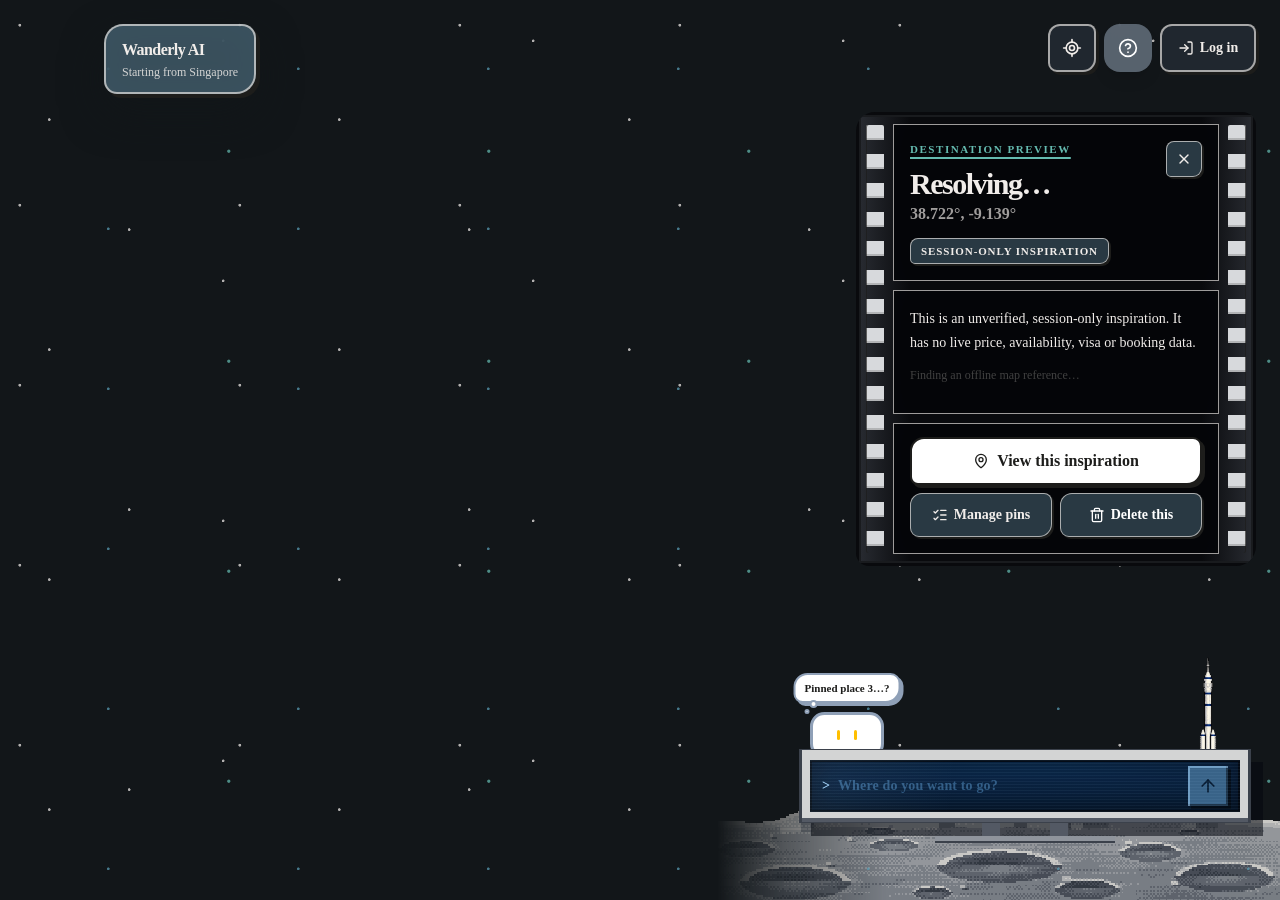
Scenario: ExploreMapPage private inspirations › keeps multiple pins and supports individual and batch deletion
Click the button "Manage pins" at (981, 515), box [910,493,1052,537]
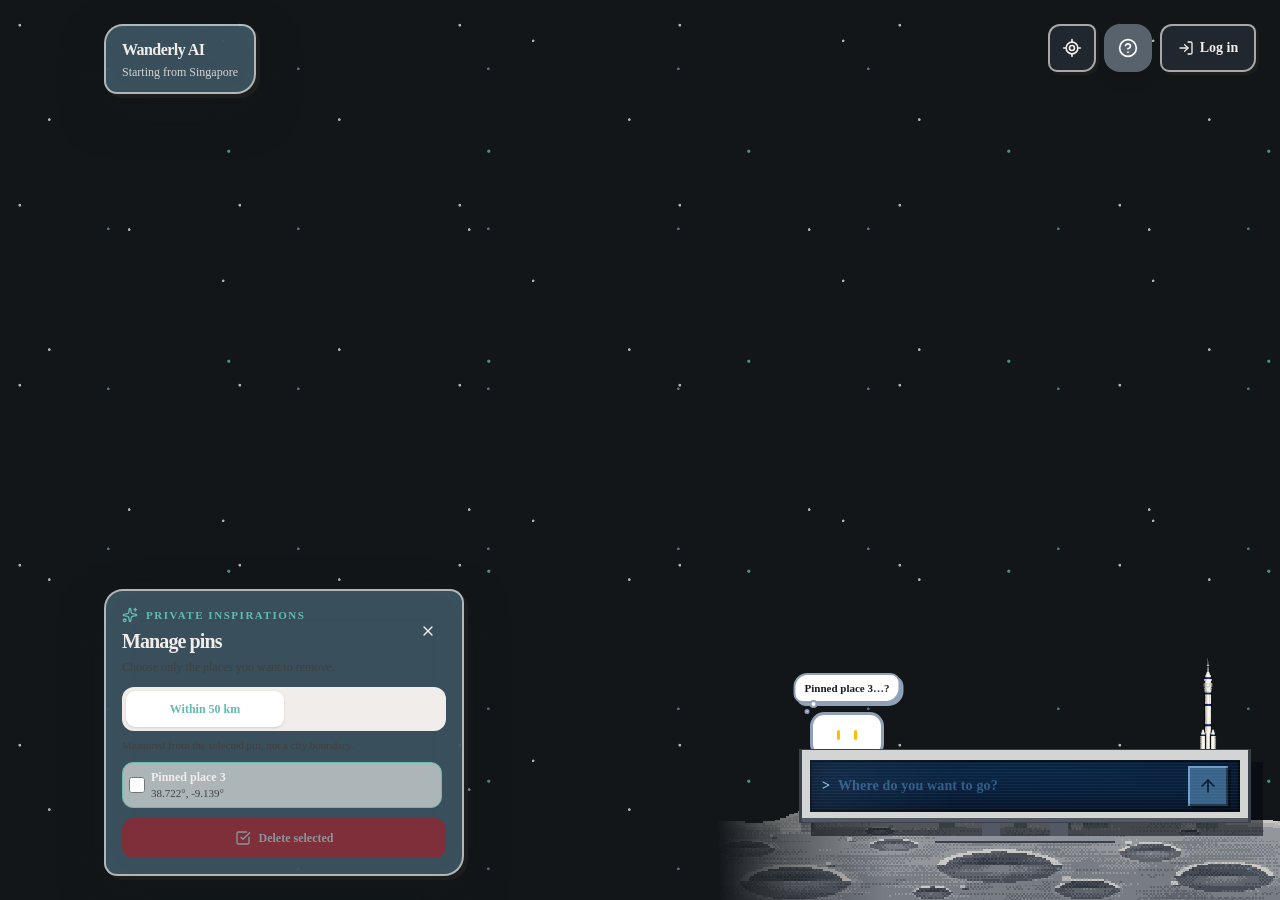
Click the button "All pins (3)" at (363, 709), box [284,691,442,727]
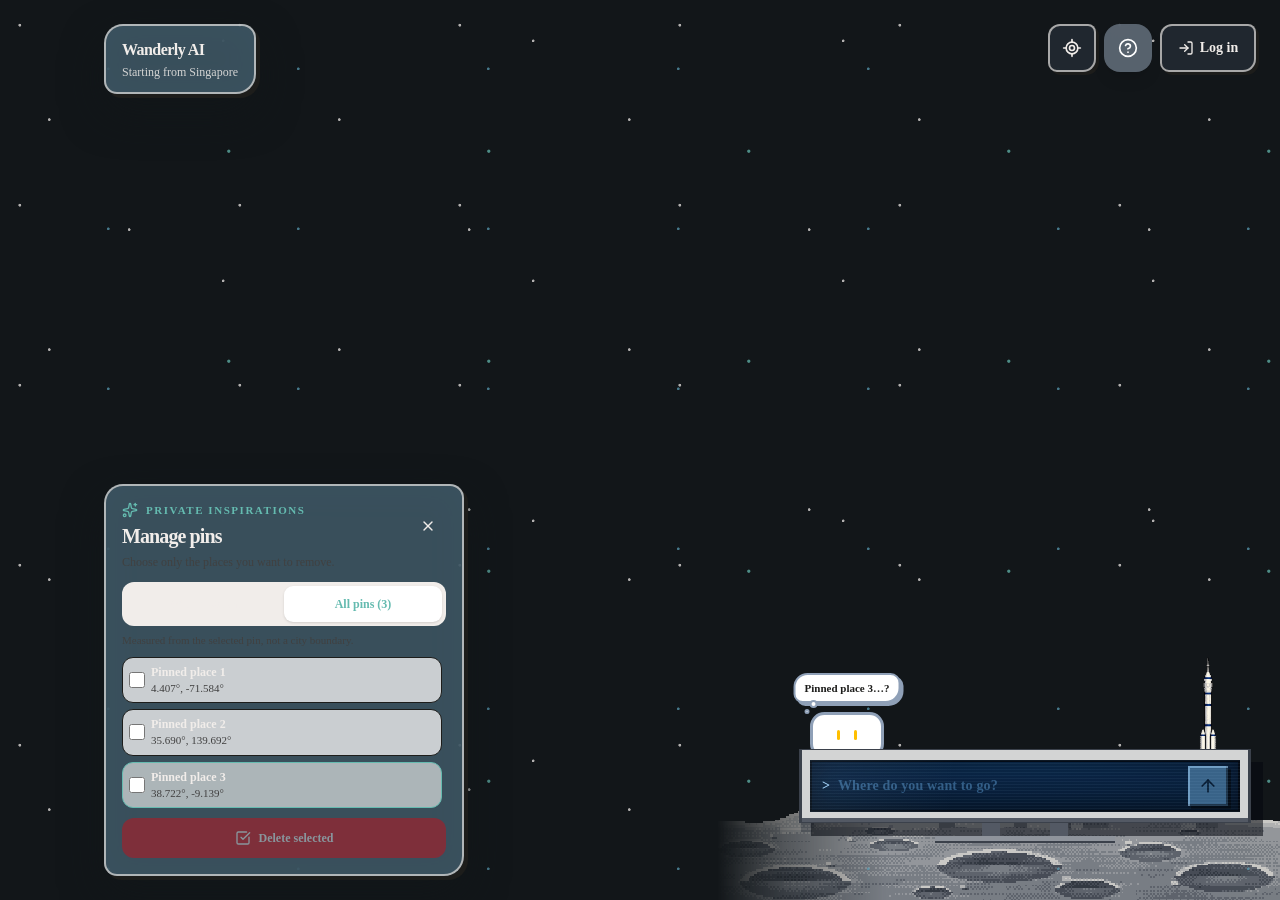
Now the text "Pinned place 3" is shown, box [151,770,226,784]
Now the text "Pinned place 1" is shown, box [151,664,226,678]
Click the checkbox named "Select Pinned place 1" at (137, 680), box [129,672,145,688]
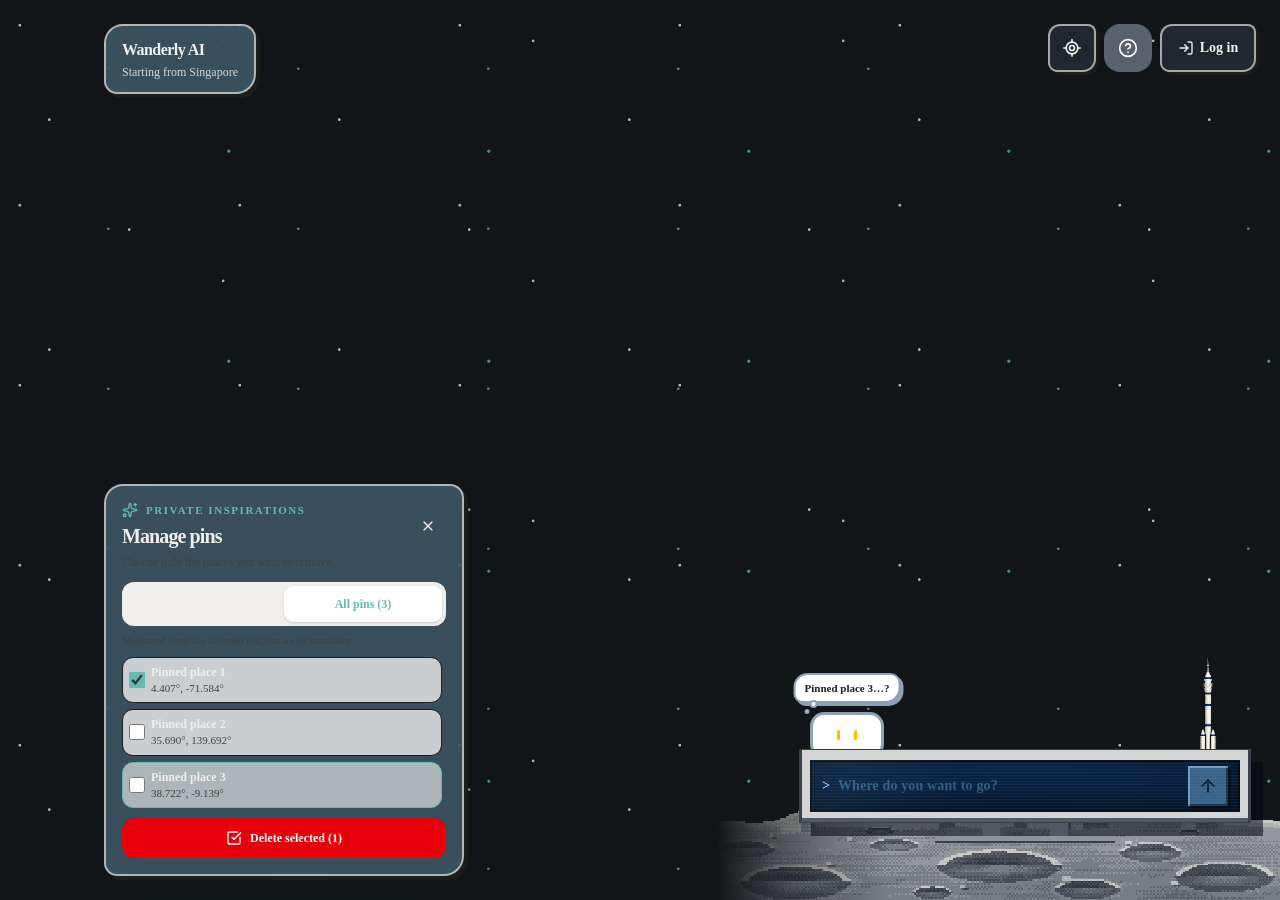
Click the checkbox named "Select Pinned place 2" at (137, 732), box [129,724,145,740]
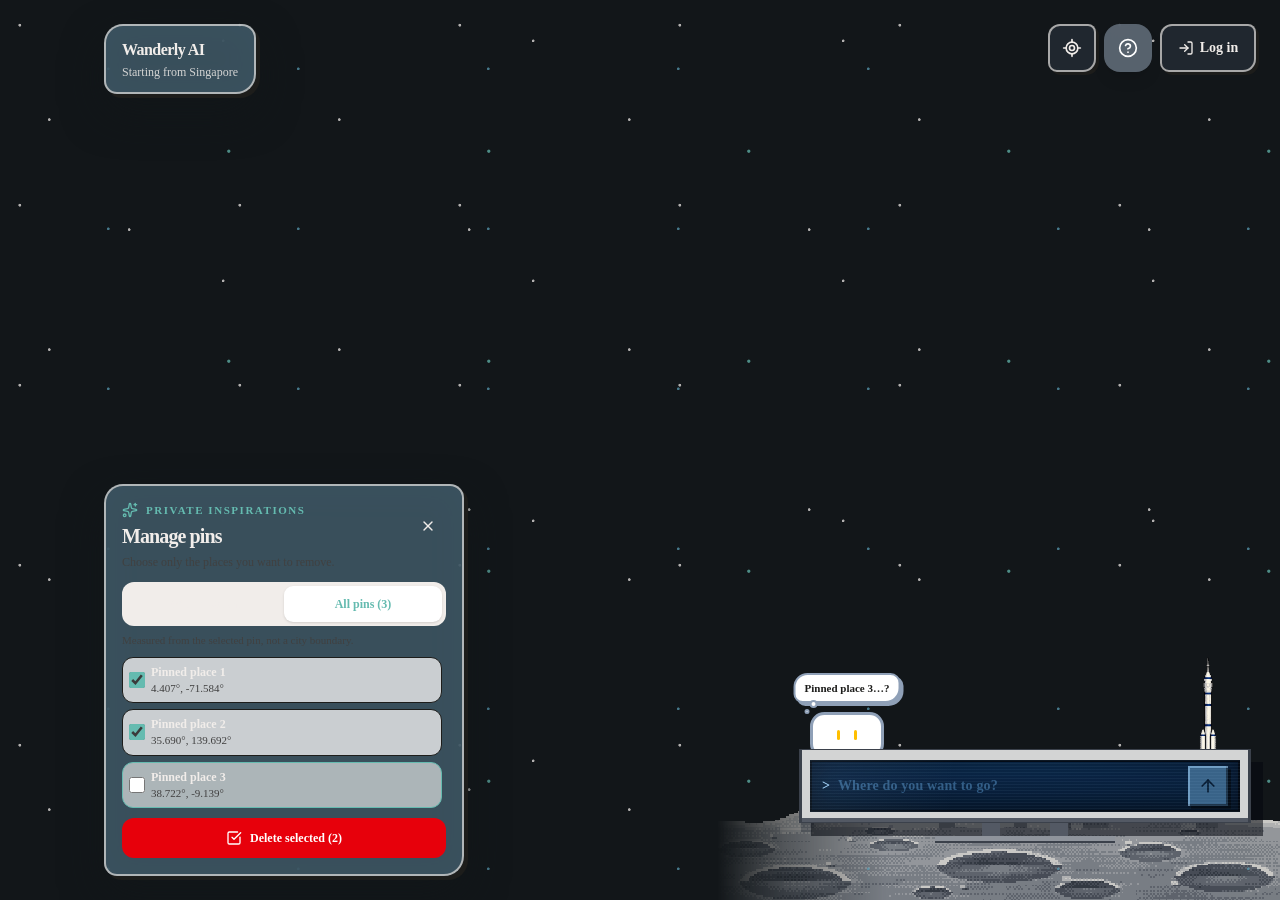
Click the button "Delete selected (2)" at (284, 838), box [122,818,446,858]
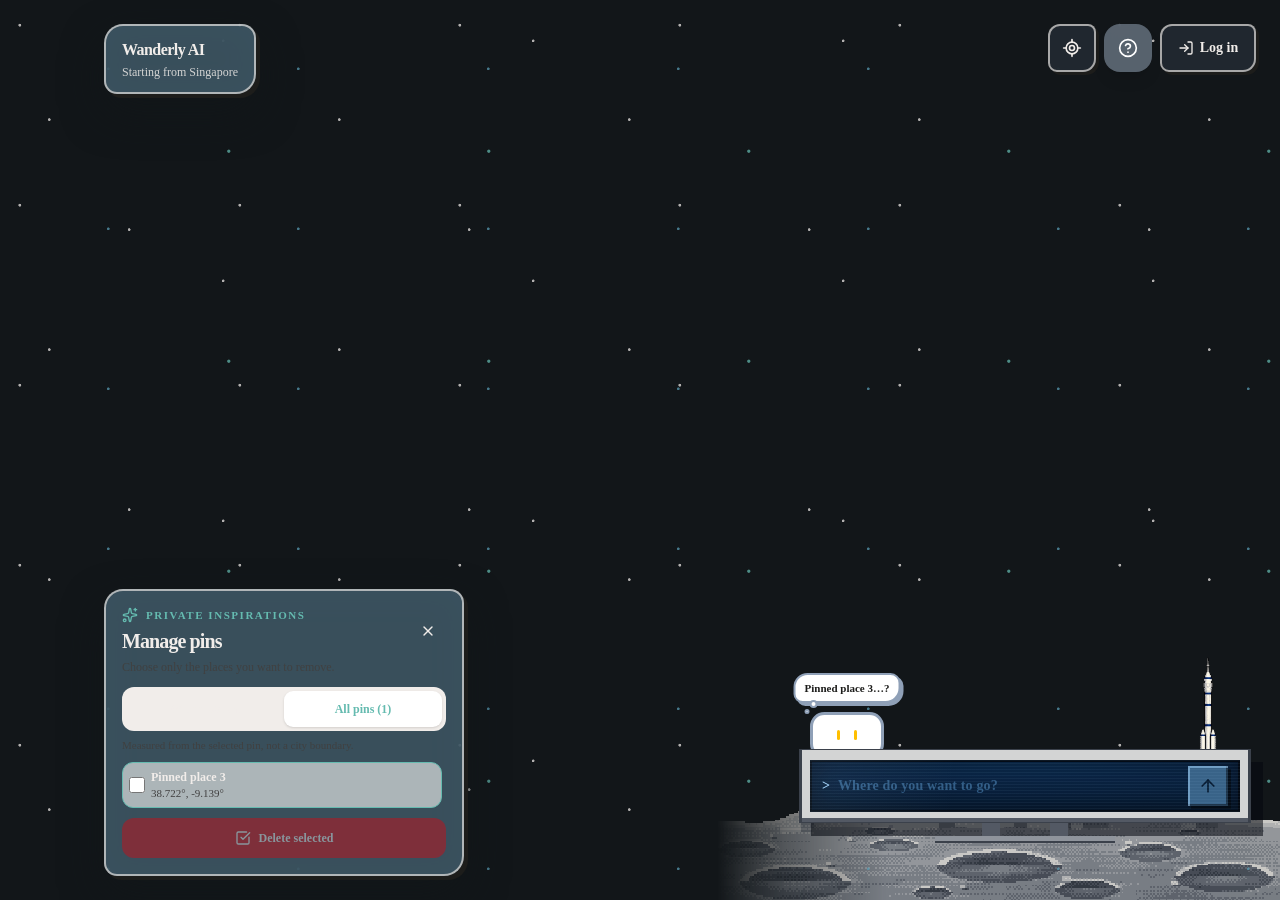
Now the text "Pinned place 3" is shown, box [151,770,226,784]
Now the button "Pinned place 1" is gone
